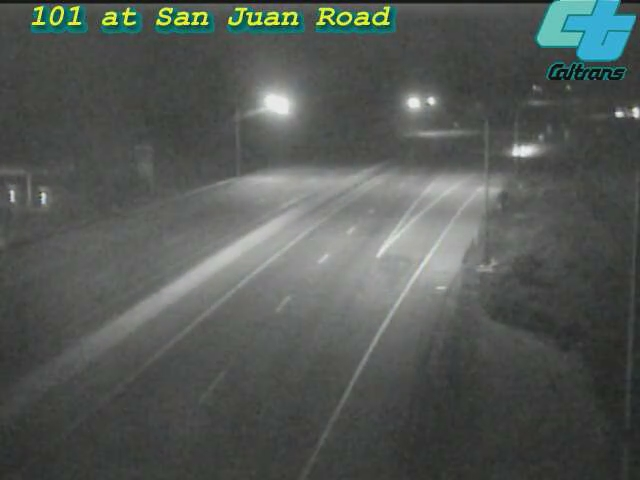vehicle: (497, 125, 547, 175), (600, 89, 640, 139)
